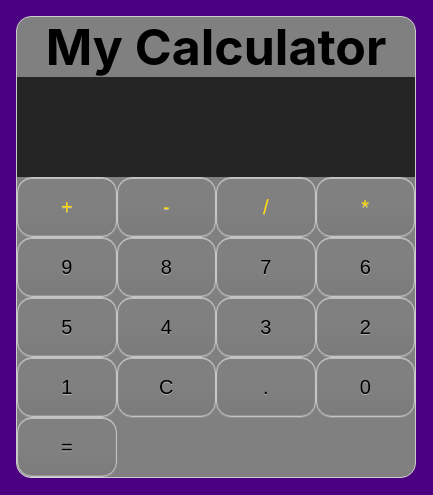
it: should display 6 when a user enters 3*2
The width and height of the screenshot is (433, 495).
Click the button "3".
click(266, 327)  # box top-left (216, 297), bottom-right (316, 357)
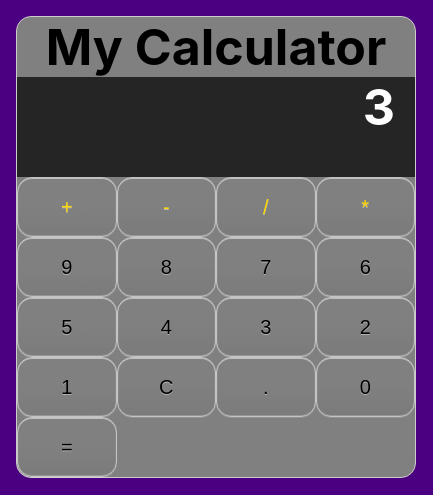
Click the button "*".
click(365, 207)  # box top-left (316, 177), bottom-right (415, 237)
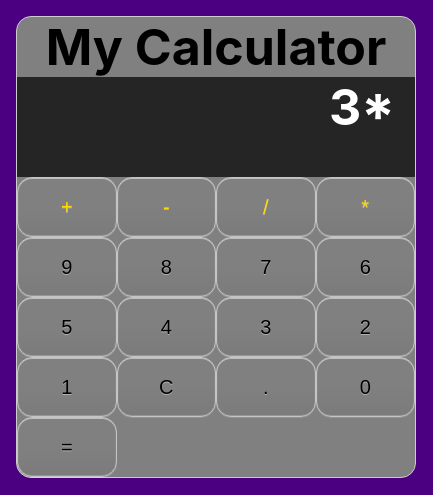
Click the button "2".
click(365, 327)  # box top-left (316, 297), bottom-right (415, 357)
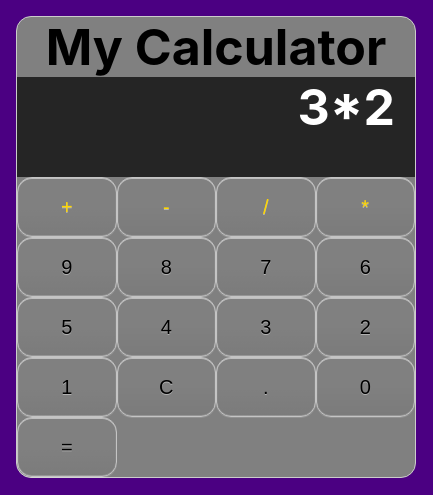
Click the button "=".
click(67, 447)  # box top-left (17, 417), bottom-right (116, 477)
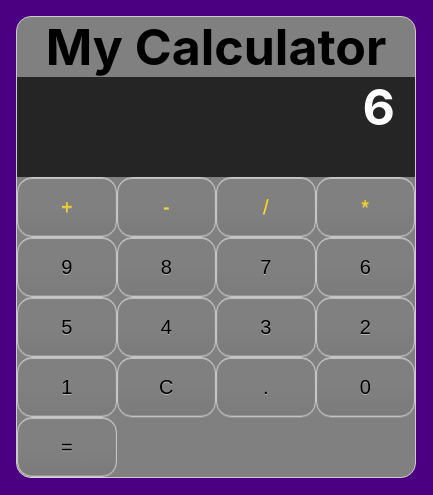
Now the heading with test id "display" reads "6", box top-left (362, 77), bottom-right (395, 137)
